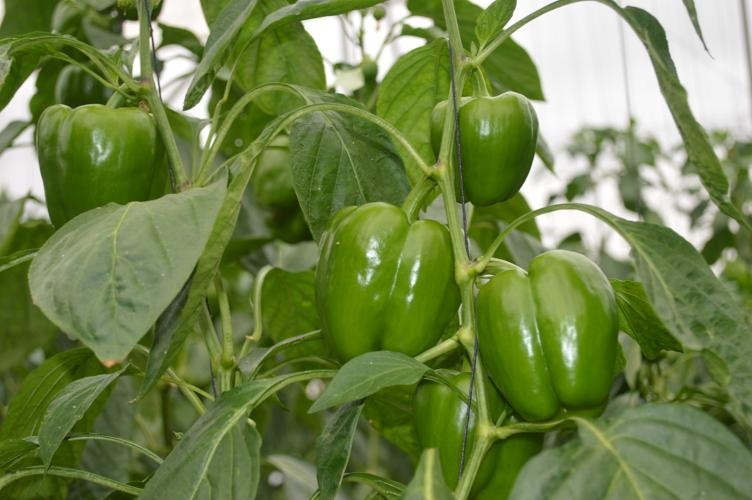BellPepper: (308, 203, 455, 380), (470, 256, 617, 419), (32, 99, 176, 239), (409, 367, 548, 486), (430, 86, 542, 210)
